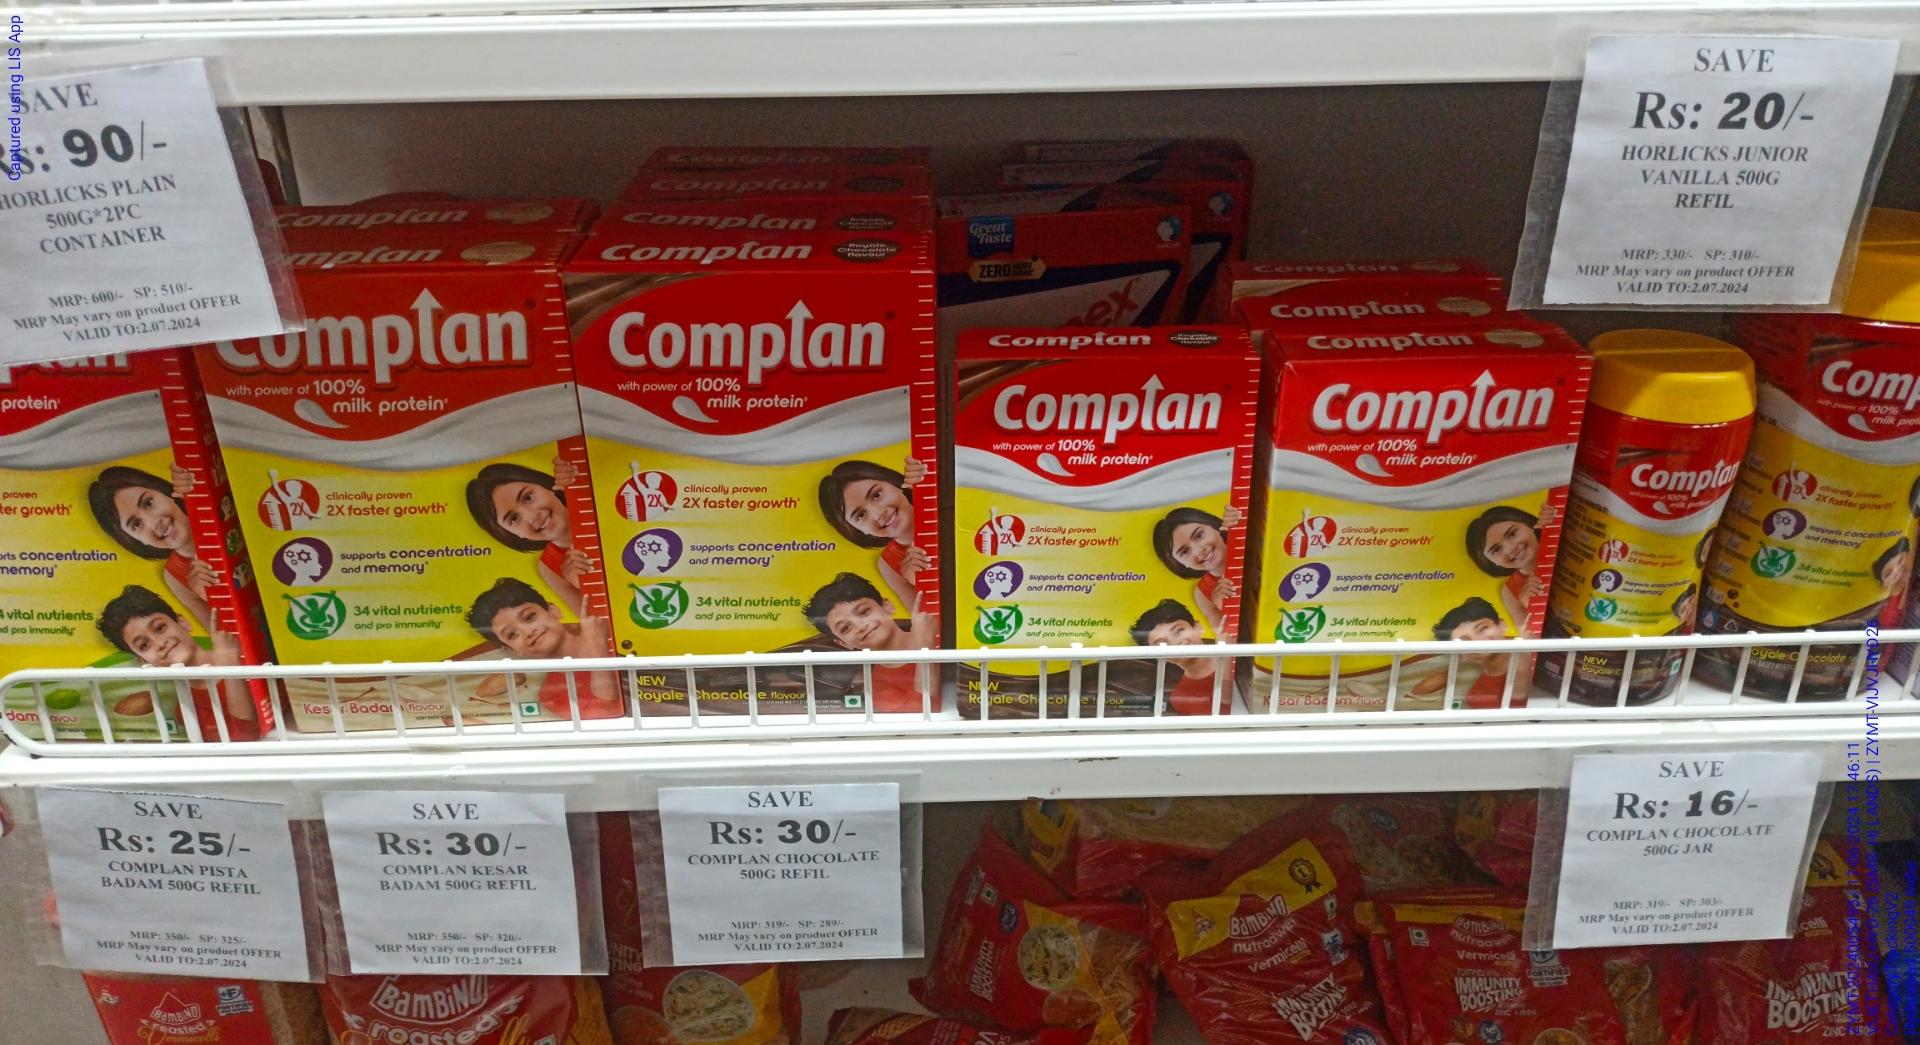COMPLAN_CHOCOLATE_200_GMS_JAR: (1570, 329, 1739, 713)
COMPLAN_CHOCOLATE_200_GMS_PACK: (956, 358, 1242, 713)
COMPLAN_CHOCOLATE_500_GMS_PACK: (613, 273, 930, 727)
COMPLAN_KESAR_BADAM_200_GMS_PACK: (1262, 355, 1562, 717)
COMPLAN_KESAR_BADAM_500_GMS_PACK: (250, 273, 606, 726)
